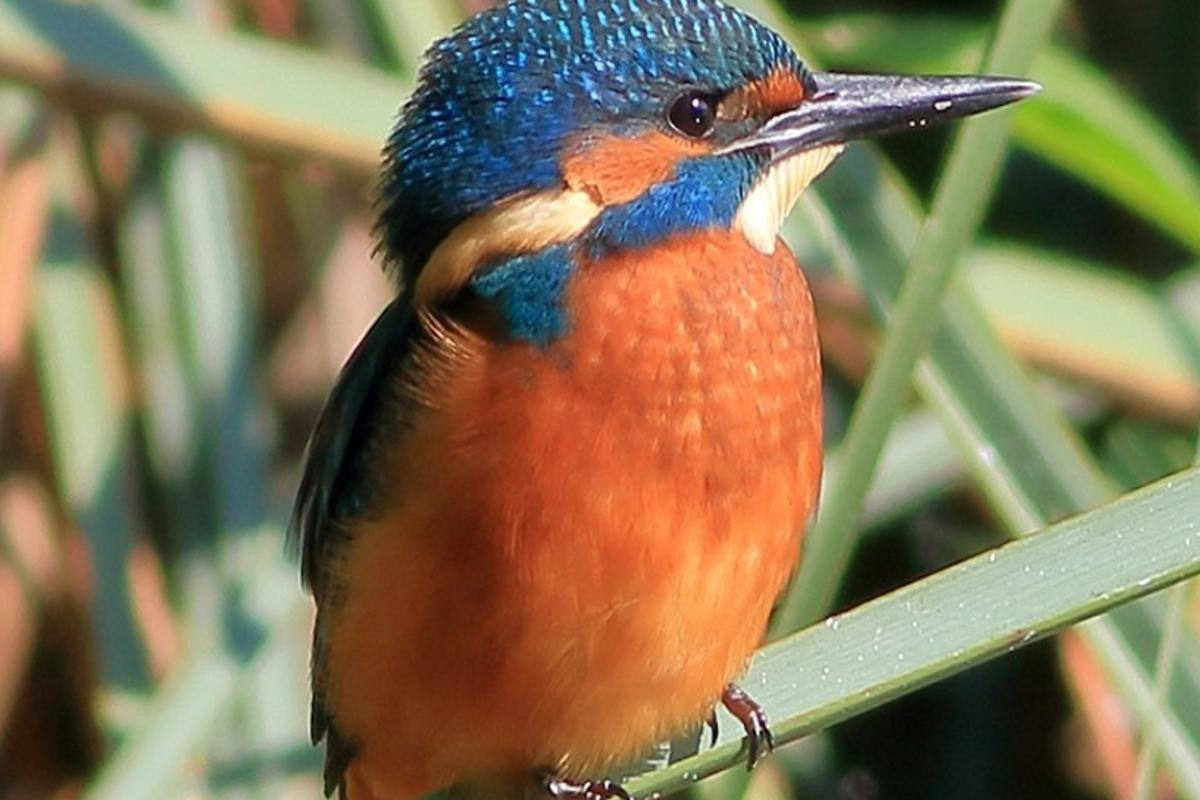kingfisher: (296, 5, 1038, 800)
